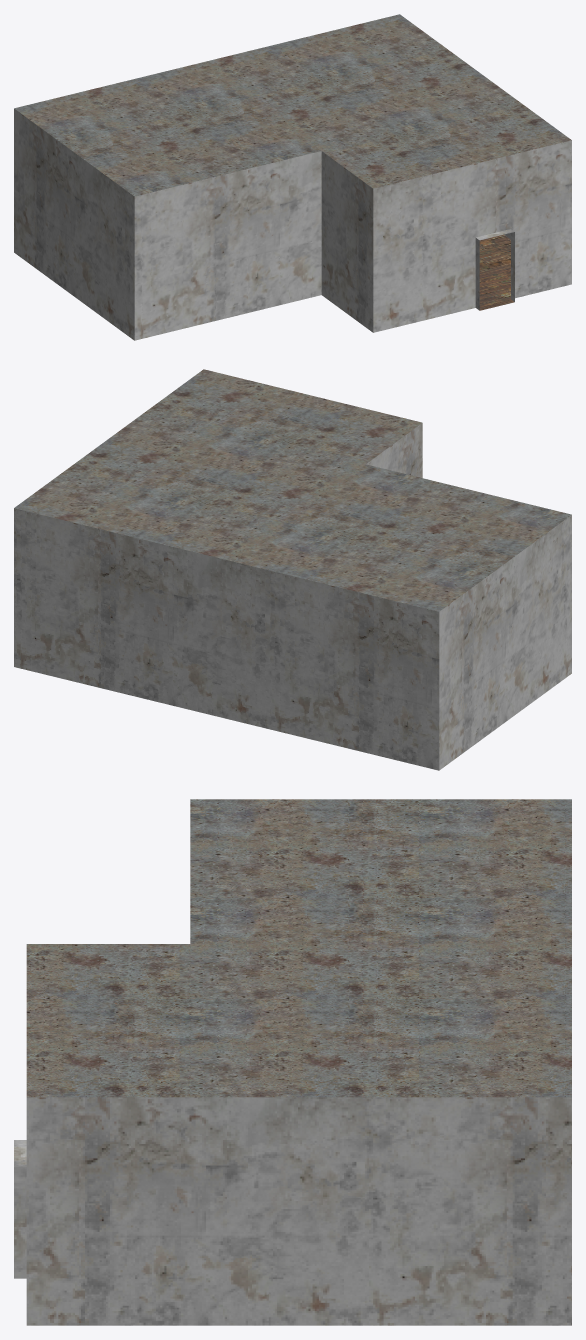
The model's file is _Room_8.FBX.
3 views of the same model, one above another, from view 1: azimuth 30°, elevation 25°; view 2: azimuth 150°, elevation 25°; view 3: azimuth 270°, elevation 25° (orthographic). The views are drawn at different scales.
Parts seen in each view (by area): view 1: _Room_8; view 2: _Room_8; view 3: _Room_8.
Boxes of the visible parts, bbox=[...] form: _Room_8: bbox=[14, 14, 571, 340]; _Room_8: bbox=[14, 369, 571, 770]; _Room_8: bbox=[14, 799, 571, 1325].
Bounding box in the file's own units: 2619 × 935 × 2072.
Materials: 3 (3 with a texture image).
